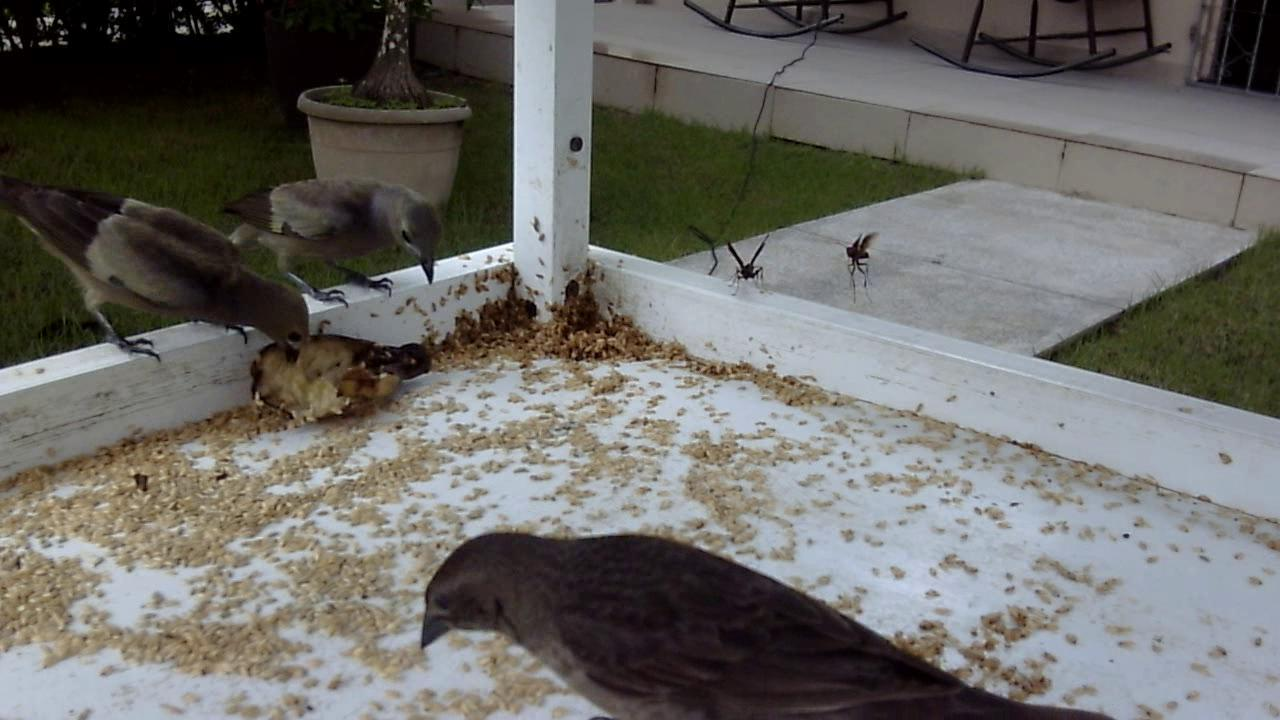chupim: (401, 507, 1117, 720)
sanhaco_do_coqueiro: (15, 168, 327, 378), (212, 168, 438, 315)
